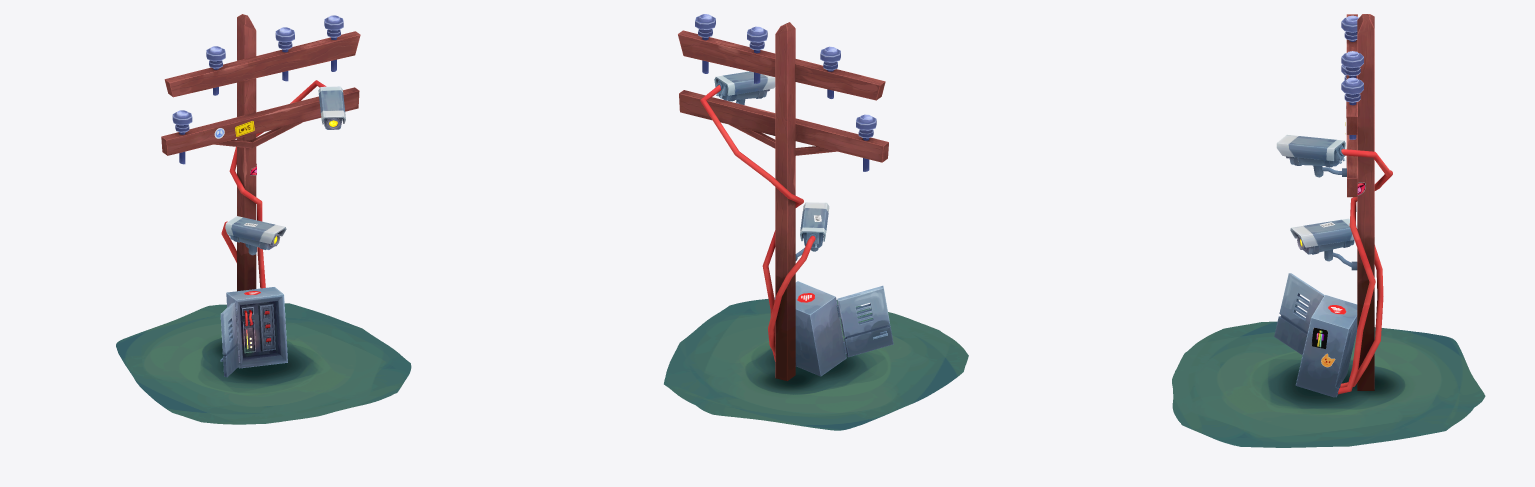
The model's file is camera_pole.glb.
The picture shows the model from 3 angles, left to right: view 1: azimuth 30°, elevation 25°; view 2: azimuth 150°, elevation 25°; view 3: azimuth 270°, elevation 25°; orthographic projection. The views are drawn at different scales.
Parts seen in each view (by area): view 1: Plane.007, Cube.017, Plane.001, Cube.018, Cube.007, Cube.008, Cube.004, Vert.002, Cube.002; view 2: Plane.007, Plane.001, Cube.017, Cube.018, Cube.007, Cube.008, Vert.002, Cube.002, Cube.004, Vert.003; view 3: Plane.007, Plane.001, Cube.007, Cube.008, Vert.002, Cube.002, Cube.004, Vert.003, Cube.018, Cube.017, Circle.021, Circle.022.
Part boxes in pixels (<box>): Plane.007: <box>116,303,411,424</box>; Cube.017: <box>164,31,360,97</box>; Plane.001: <box>237,14,256,291</box>; Cube.018: <box>161,87,359,155</box>; Cube.007: <box>226,287,287,368</box>; Cube.008: <box>220,302,238,377</box>; Cube.004: <box>225,216,286,243</box>; Vert.002: <box>229,80,326,288</box>; Cube.002: <box>318,86,345,124</box>; Plane.007: <box>664,298,968,430</box>; Plane.001: <box>775,22,795,381</box>; Cube.017: <box>678,30,885,100</box>; Cube.018: <box>679,90,888,162</box>; Cube.007: <box>774,281,846,376</box>; Cube.008: <box>837,285,893,357</box>; Vert.002: <box>700,85,803,361</box>; Cube.002: <box>714,71,775,95</box>; Cube.004: <box>800,202,829,241</box>; Vert.003: <box>768,235,815,355</box>; Plane.007: <box>1172,321,1485,447</box>; Plane.001: <box>1357,14,1374,390</box>; Cube.007: <box>1295,294,1357,397</box>; Cube.008: <box>1274,273,1324,355</box>; Vert.002: <box>1338,149,1392,394</box>; Cube.002: <box>1276,134,1345,160</box>; Cube.004: <box>1290,218,1357,247</box>; Vert.003: <box>1340,245,1383,387</box>; Cube.018: <box>1346,101,1357,197</box>; Cube.017: <box>1346,14,1357,134</box>; Circle.021: <box>1341,77,1363,139</box>; Circle.022: <box>1341,51,1363,77</box>.
Size of the model in its own units: 14.66 by 14.66 by 14.66.
4 materials, 4 textured.
